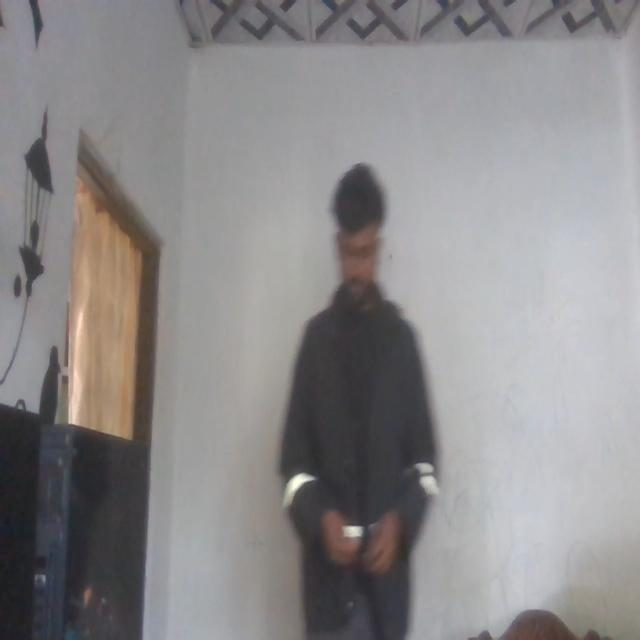Jacket_Wearer: (263, 267, 436, 632)
Person: (270, 157, 440, 640)
